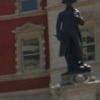Statue: (49, 3, 92, 74)
